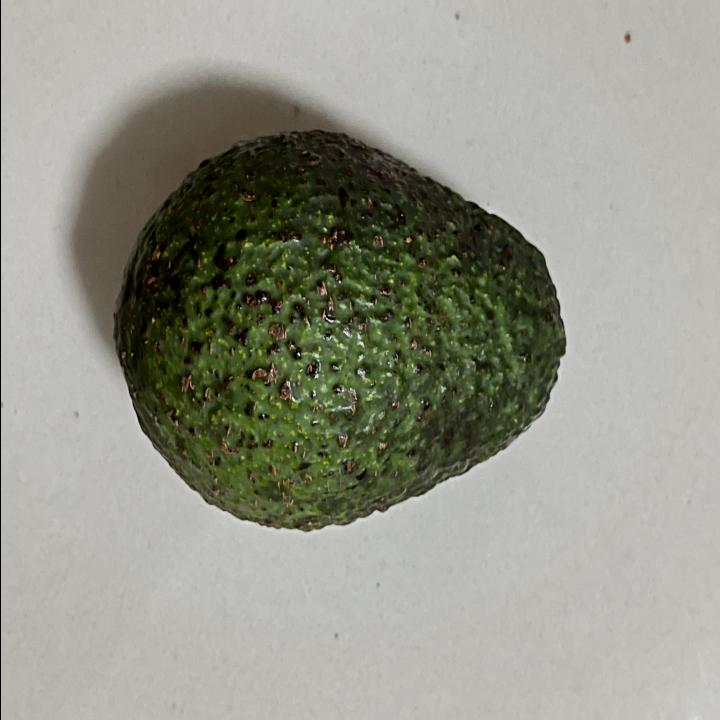Level1: (99, 119, 579, 547)
